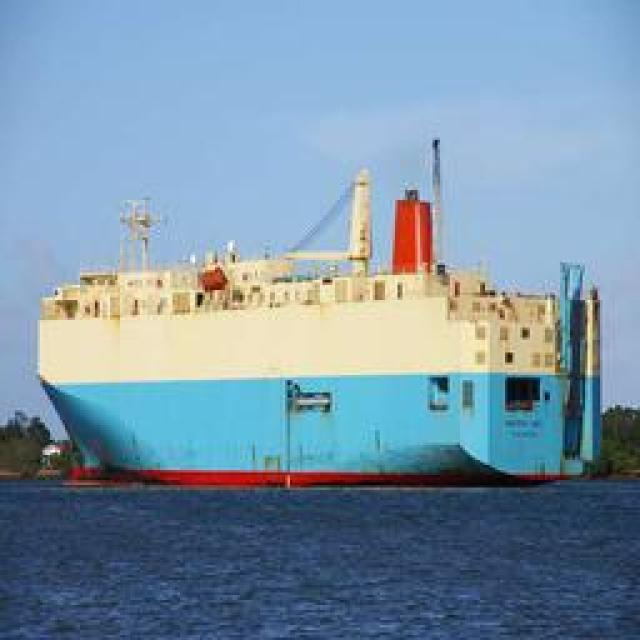CIV_Ship: (28, 135, 610, 485)
